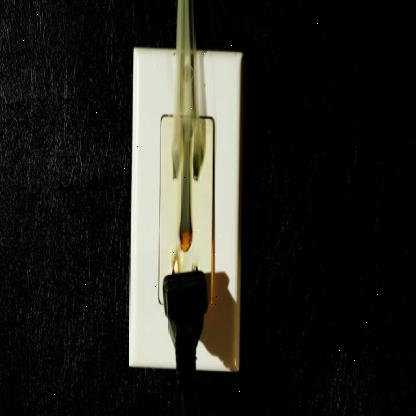fire: (182, 234, 192, 252), (174, 259, 178, 275)
smoke: (169, 0, 205, 232)
